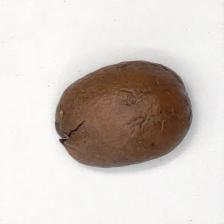NG: (54, 102, 88, 154)
